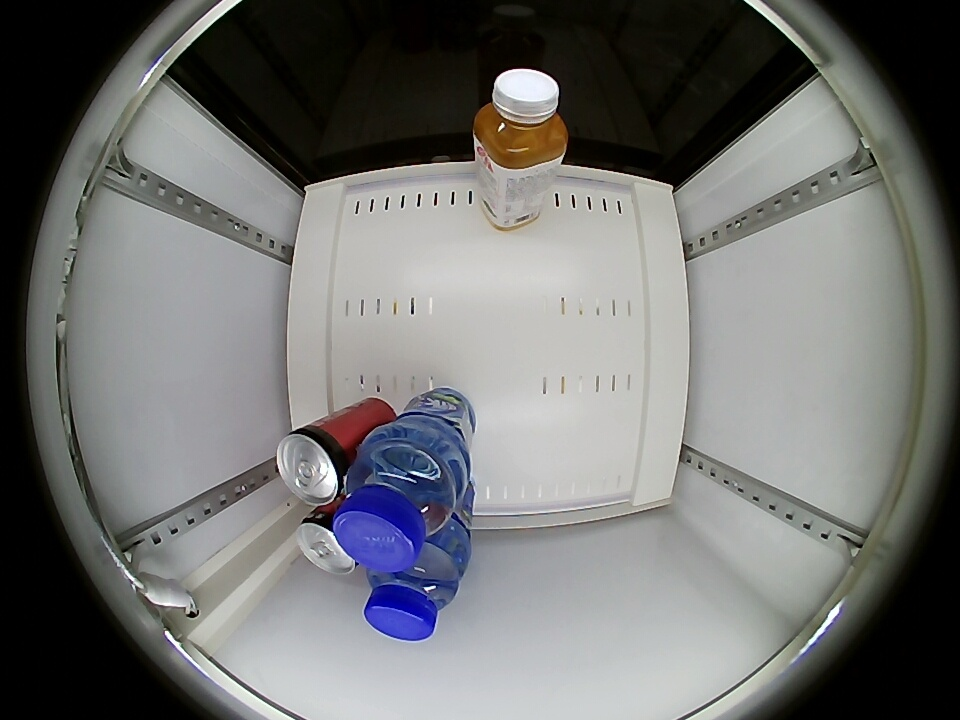chapai: (473, 69, 569, 172)
lingdukele: (275, 424, 356, 506), (294, 509, 360, 576)
maidong: (335, 443, 456, 571), (362, 539, 463, 641)
